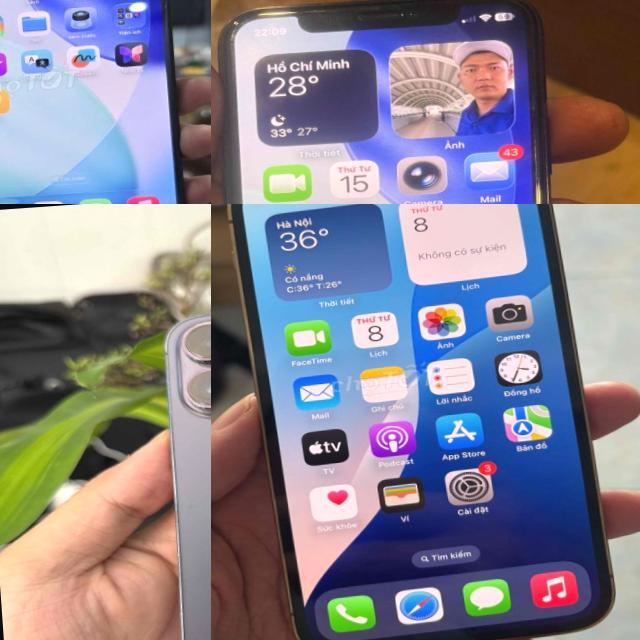gen_11: (211, 0, 594, 204)
gen_12_13: (217, 204, 623, 640)
gen_14: (154, 292, 211, 640)
gen_15: (0, 0, 199, 204)
